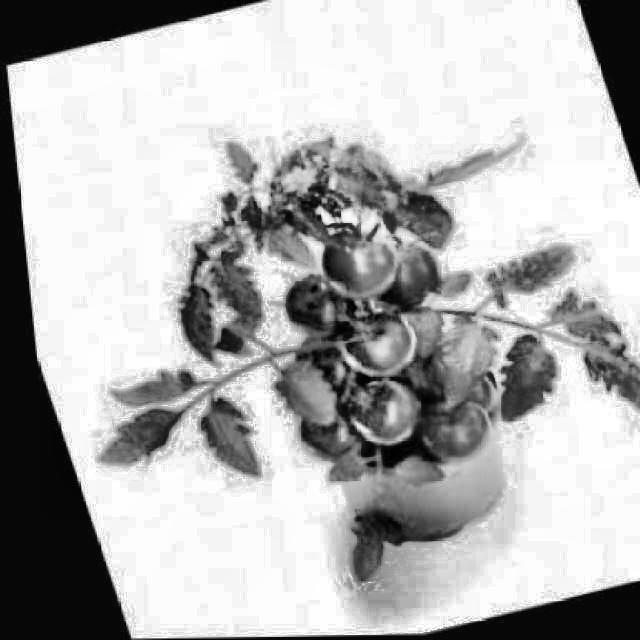plants: (4, 52, 638, 640)
